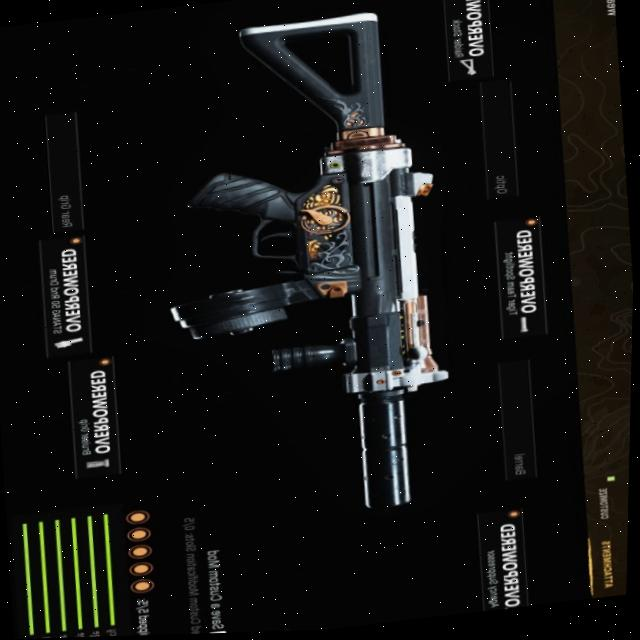firearm: (137, 4, 472, 535)
